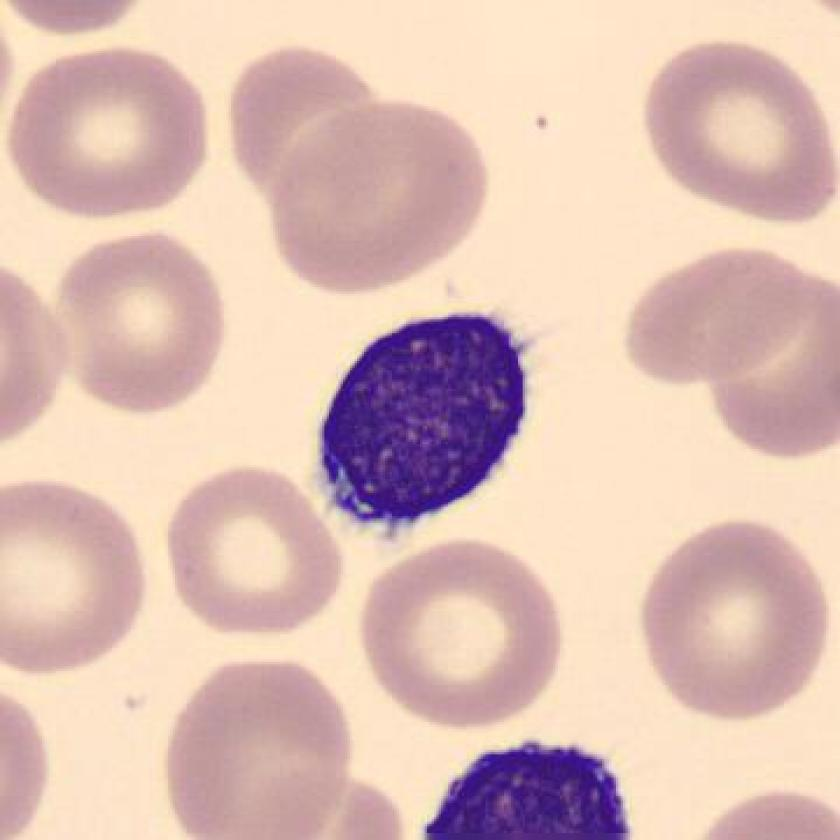lymphocyte: (307, 309, 545, 547)
